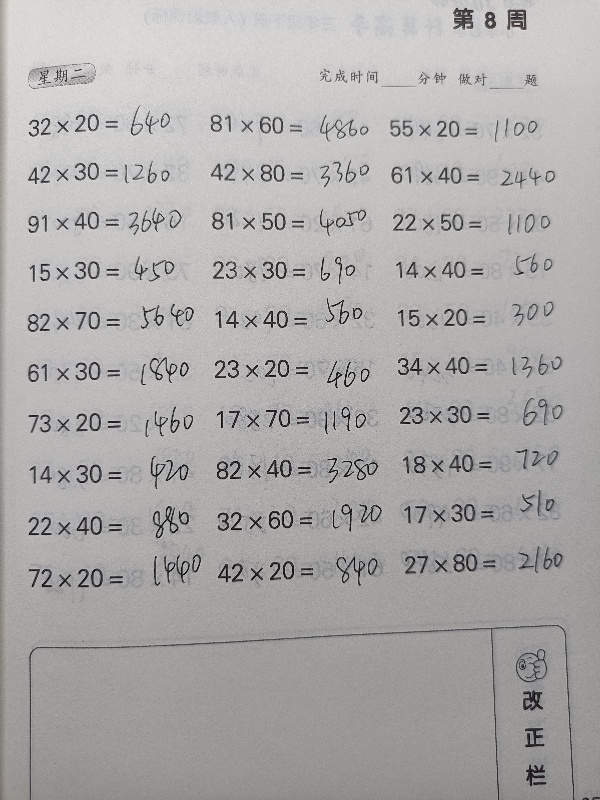equation: (20, 99, 200, 144), (19, 202, 199, 244), (20, 153, 200, 192), (209, 553, 389, 591), (20, 508, 200, 543), (208, 502, 388, 537), (21, 561, 201, 595), (395, 546, 575, 580), (395, 496, 575, 530), (21, 457, 201, 491), (207, 452, 387, 486), (394, 446, 574, 480), (20, 405, 200, 439), (207, 401, 387, 435), (18, 354, 198, 388), (206, 352, 386, 386), (18, 304, 198, 338), (203, 204, 383, 238), (390, 398, 570, 431), (388, 349, 568, 382), (207, 303, 387, 336), (389, 301, 569, 334), (205, 254, 385, 287), (20, 254, 200, 287), (385, 206, 565, 239), (383, 159, 563, 192), (202, 156, 382, 189), (382, 113, 562, 146), (201, 108, 381, 141), (388, 254, 568, 286)
